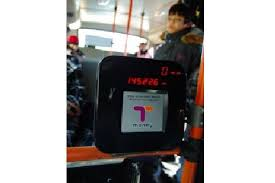terminal: (92, 54, 189, 157)
